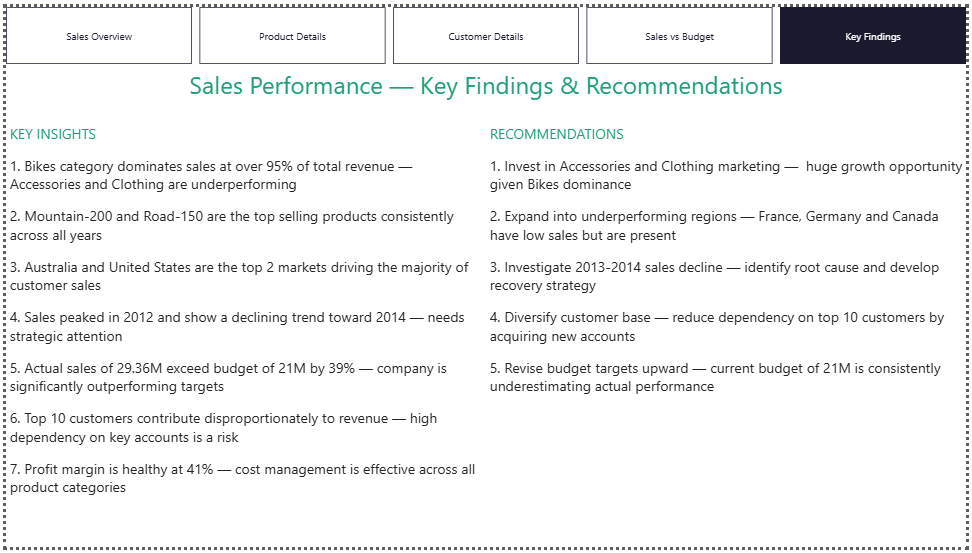

What the dashboard file says about the page in this screenshot:
{"tool":"powerbi","page":{"name":"Key Findings","canvas":[1280,720],"ordinal":4},"visuals":[{"type":"pageNavigator","box":[0,0,1280,76],"z":0},{"type":"textbox","box":[0,76,1280,74],"z":1},{"type":"textbox","box":[0,150,640,570],"z":2},{"type":"textbox","box":[640,150,640,570],"z":3}]}

Visuals, with their boxes in screenshot pixels (x1, y1, x2, y2), scaled from the page's 1280x720 canvas onto the 972x553 screenshot:
pageNavigator: <box>0,0,971,58</box>
textbox: <box>0,58,971,115</box>
textbox: <box>0,115,486,552</box>
textbox: <box>486,115,971,552</box>
